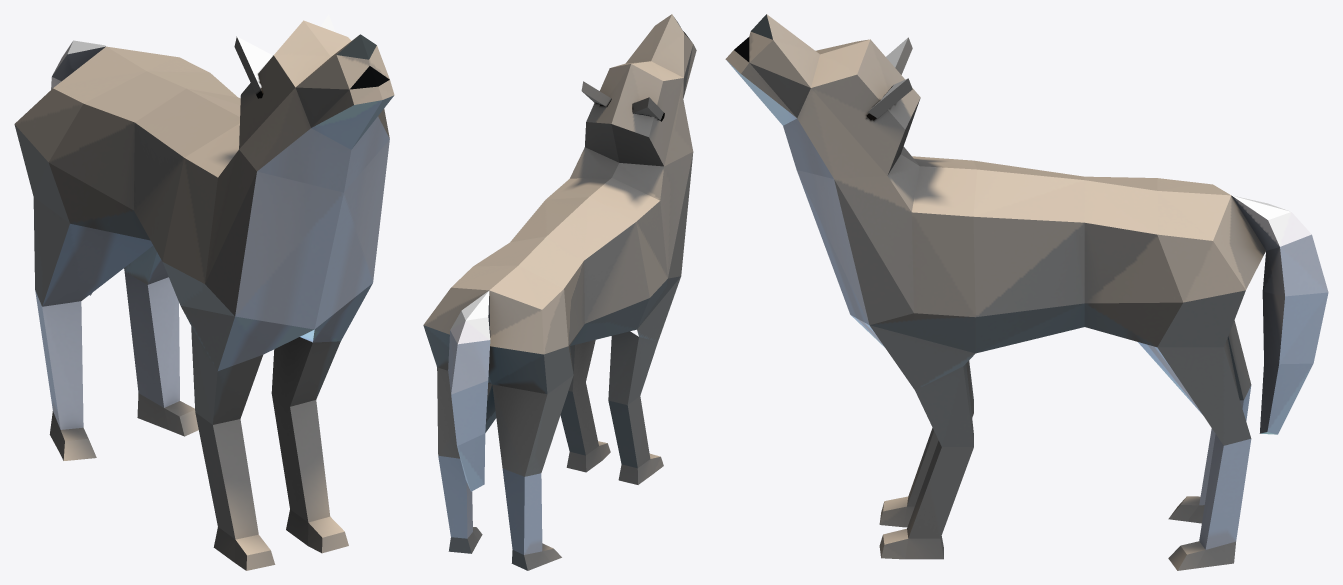
File: 4b097786-3330-43d4-b3cf-5bb5e7e11fda.glb
The picture shows the model from 3 angles, left to right: view 1: azimuth 30°, elevation 25°; view 2: azimuth 150°, elevation 25°; view 3: azimuth 270°, elevation 25°; orthographic projection. The views are drawn at different scales.
Visible parts, largest first — view 1: wolf; view 2: wolf; view 3: wolf.
Boxes of the visible parts, <box> form: wolf: <box>14,14,394,570</box>; wolf: <box>423,14,696,570</box>; wolf: <box>725,14,1328,570</box>.
Size of the model in its own units: 0.5176 by 1.69 by 1.76.
Materials: 1 (1 with a texture image).
